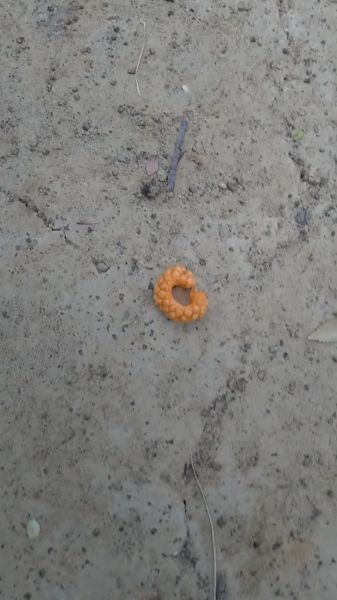eggs: (148, 259, 212, 325)
